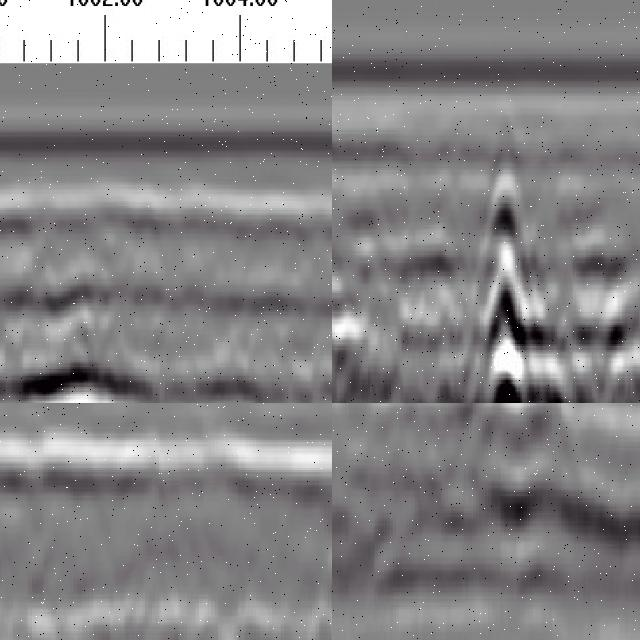crack: (477, 146, 535, 404)
loose: (374, 404, 582, 553), (1, 291, 166, 404)
